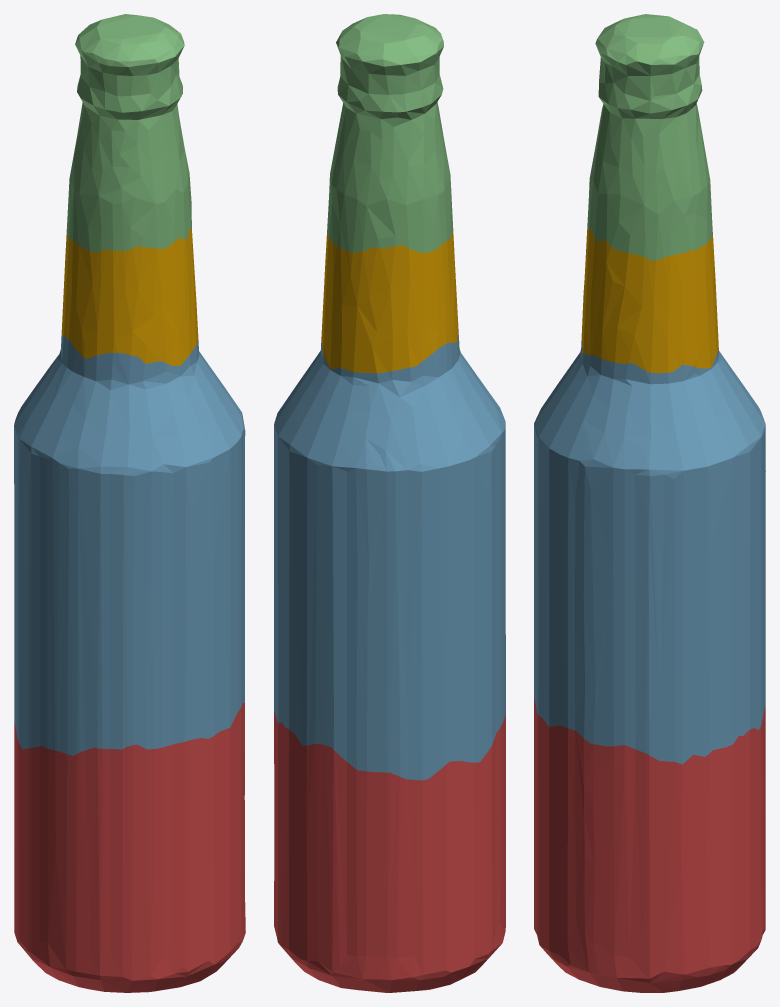
File: fractured_52_4pcs.glb
The picture shows the model from 3 angles, left to right: view 1: azimuth 30°, elevation 25°; view 2: azimuth 150°, elevation 25°; view 3: azimuth 270°, elevation 25°; orthographic projection.
Parts seen in each view (by area): view 1: piece_2.obj, piece_1.obj, piece_3.obj, piece_0.obj; view 2: piece_2.obj, piece_1.obj, piece_3.obj, piece_0.obj; view 3: piece_2.obj, piece_1.obj, piece_3.obj, piece_0.obj.
Boxes of the visible parts, x1,y1,x2,y2 form: piece_2.obj: [14, 335, 245, 755]; piece_1.obj: [14, 703, 245, 992]; piece_3.obj: [66, 14, 191, 252]; piece_0.obj: [61, 229, 198, 365]; piece_2.obj: [274, 330, 505, 780]; piece_1.obj: [274, 712, 505, 992]; piece_3.obj: [327, 14, 452, 253]; piece_0.obj: [321, 228, 458, 373]; piece_2.obj: [534, 341, 765, 764]; piece_1.obj: [534, 698, 765, 992]; piece_3.obj: [587, 14, 712, 260]; piece_0.obj: [581, 226, 718, 373].
Size of the model in its own units: 0.2267 by 1 by 0.2267.
